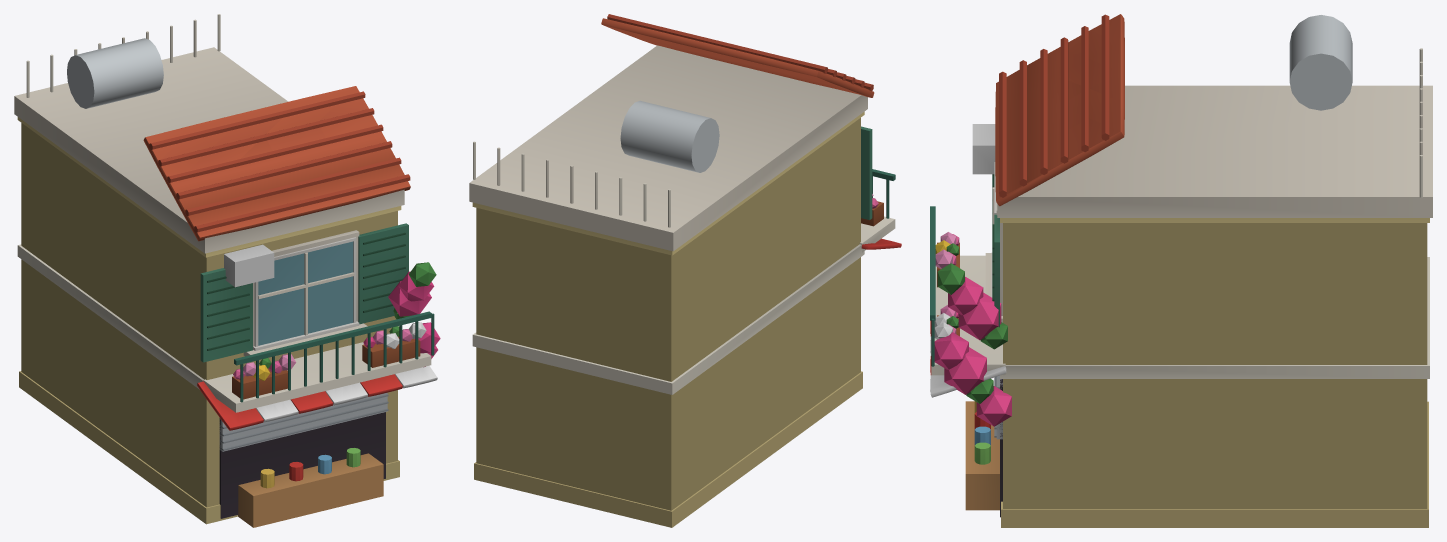
3 views of the same model, side by side, from view 1: azimuth 30°, elevation 25°; view 2: azimuth 150°, elevation 25°; view 3: azimuth 270°, elevation 25° (orthographic). The views are drawn at different scales.
Size of the model in its own units: 5.07 by 7.95 by 8.77.
